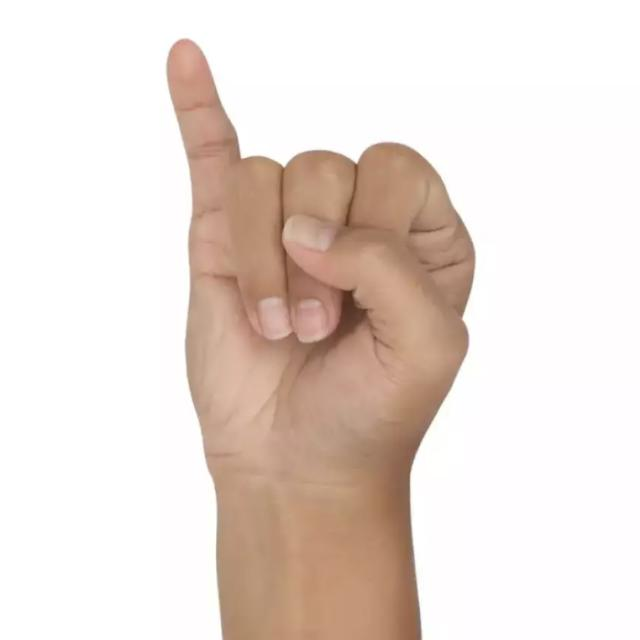pinky: (148, 17, 255, 214)
